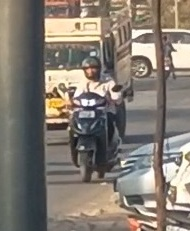BikeWithRider: (56, 54, 133, 184), (158, 35, 178, 82)
Helmet: (81, 55, 102, 81)
